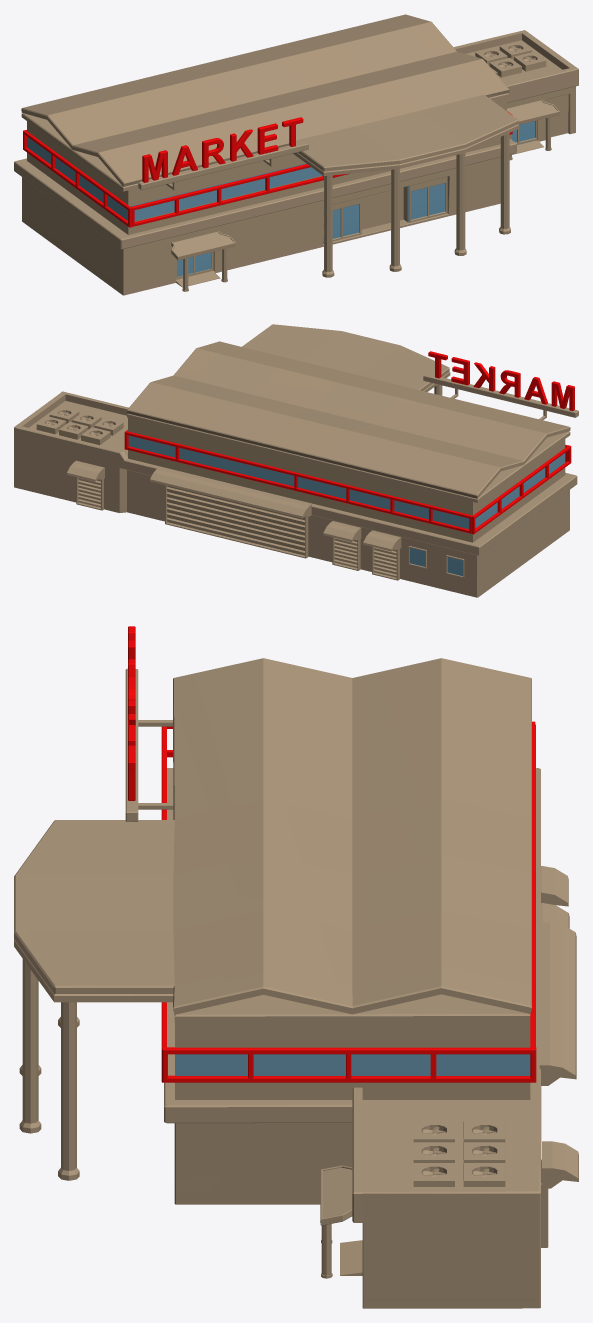
File: Market.fbx
3 views of the same model, one above another, from view 1: azimuth 30°, elevation 25°; view 2: azimuth 150°, elevation 25°; view 3: azimuth 270°, elevation 25° (orthographic). The views are drawn at different scales.
Visible parts, largest first — view 1: Market; view 2: Market; view 3: Market.
Part boxes in pixels (x1,y1,x2,y2): Market: [14, 14, 578, 295]; Market: [14, 324, 578, 597]; Market: [14, 626, 578, 1308].
Size of the model in its own units: 3681 by 1006 by 2007.
1 material, 1 textured.
